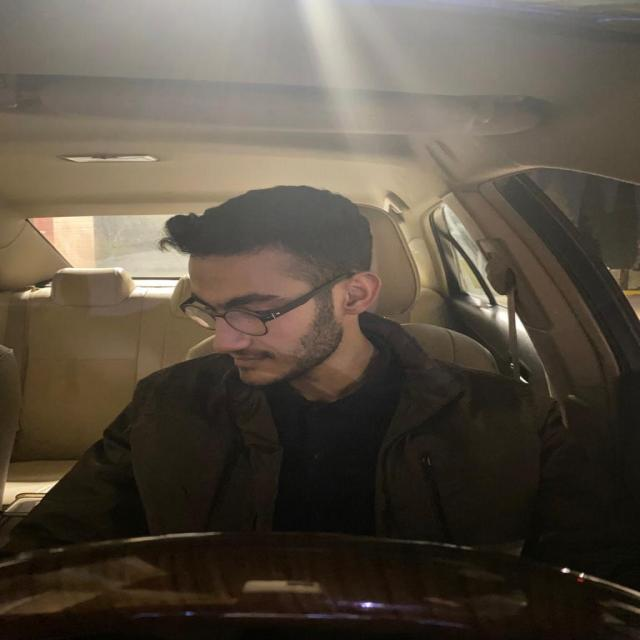drowsy: (171, 197, 395, 384)
